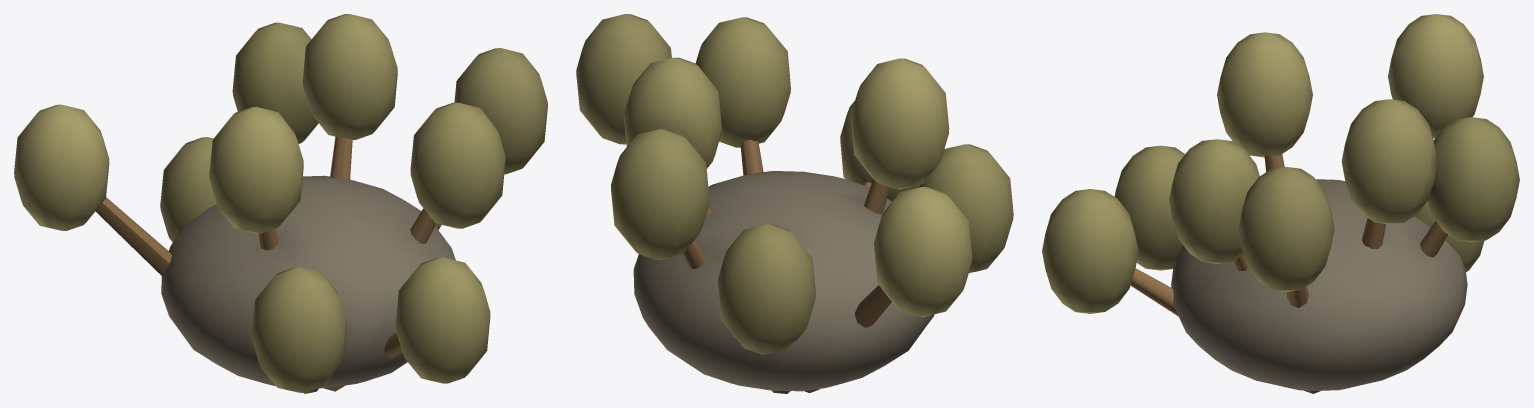
File: rabbitbrush_b.glb
The picture shows the model from 3 angles, left to right: view 1: azimuth 30°, elevation 25°; view 2: azimuth 150°, elevation 25°; view 3: azimuth 270°, elevation 25°; orthographic projection. The views are drawn at different scales.
Parts seen in each view (by area): view 1: Surface; view 2: Surface; view 3: Surface.
Part boxes in pixels (x1,y1,x2,y2): Surface: (14, 14, 547, 393); Surface: (576, 14, 1013, 393); Surface: (1042, 14, 1519, 393).
Size of the model in its own units: 1.44 by 0.9768 by 1.34.
